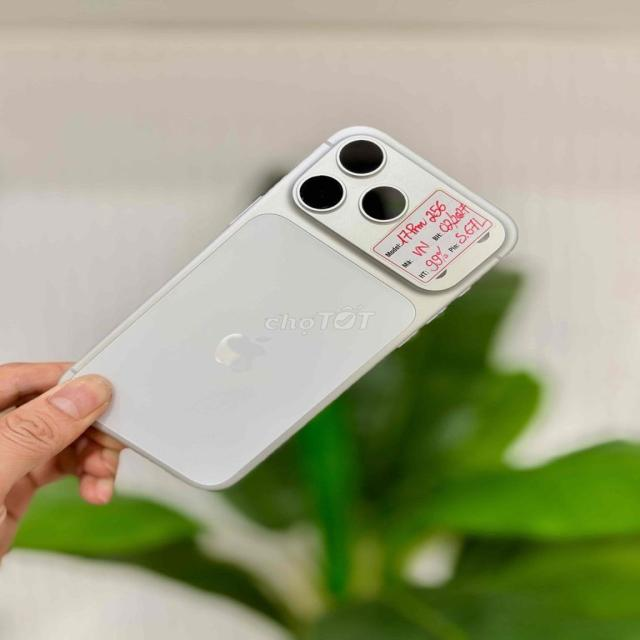gen_17: (68, 118, 528, 488)
